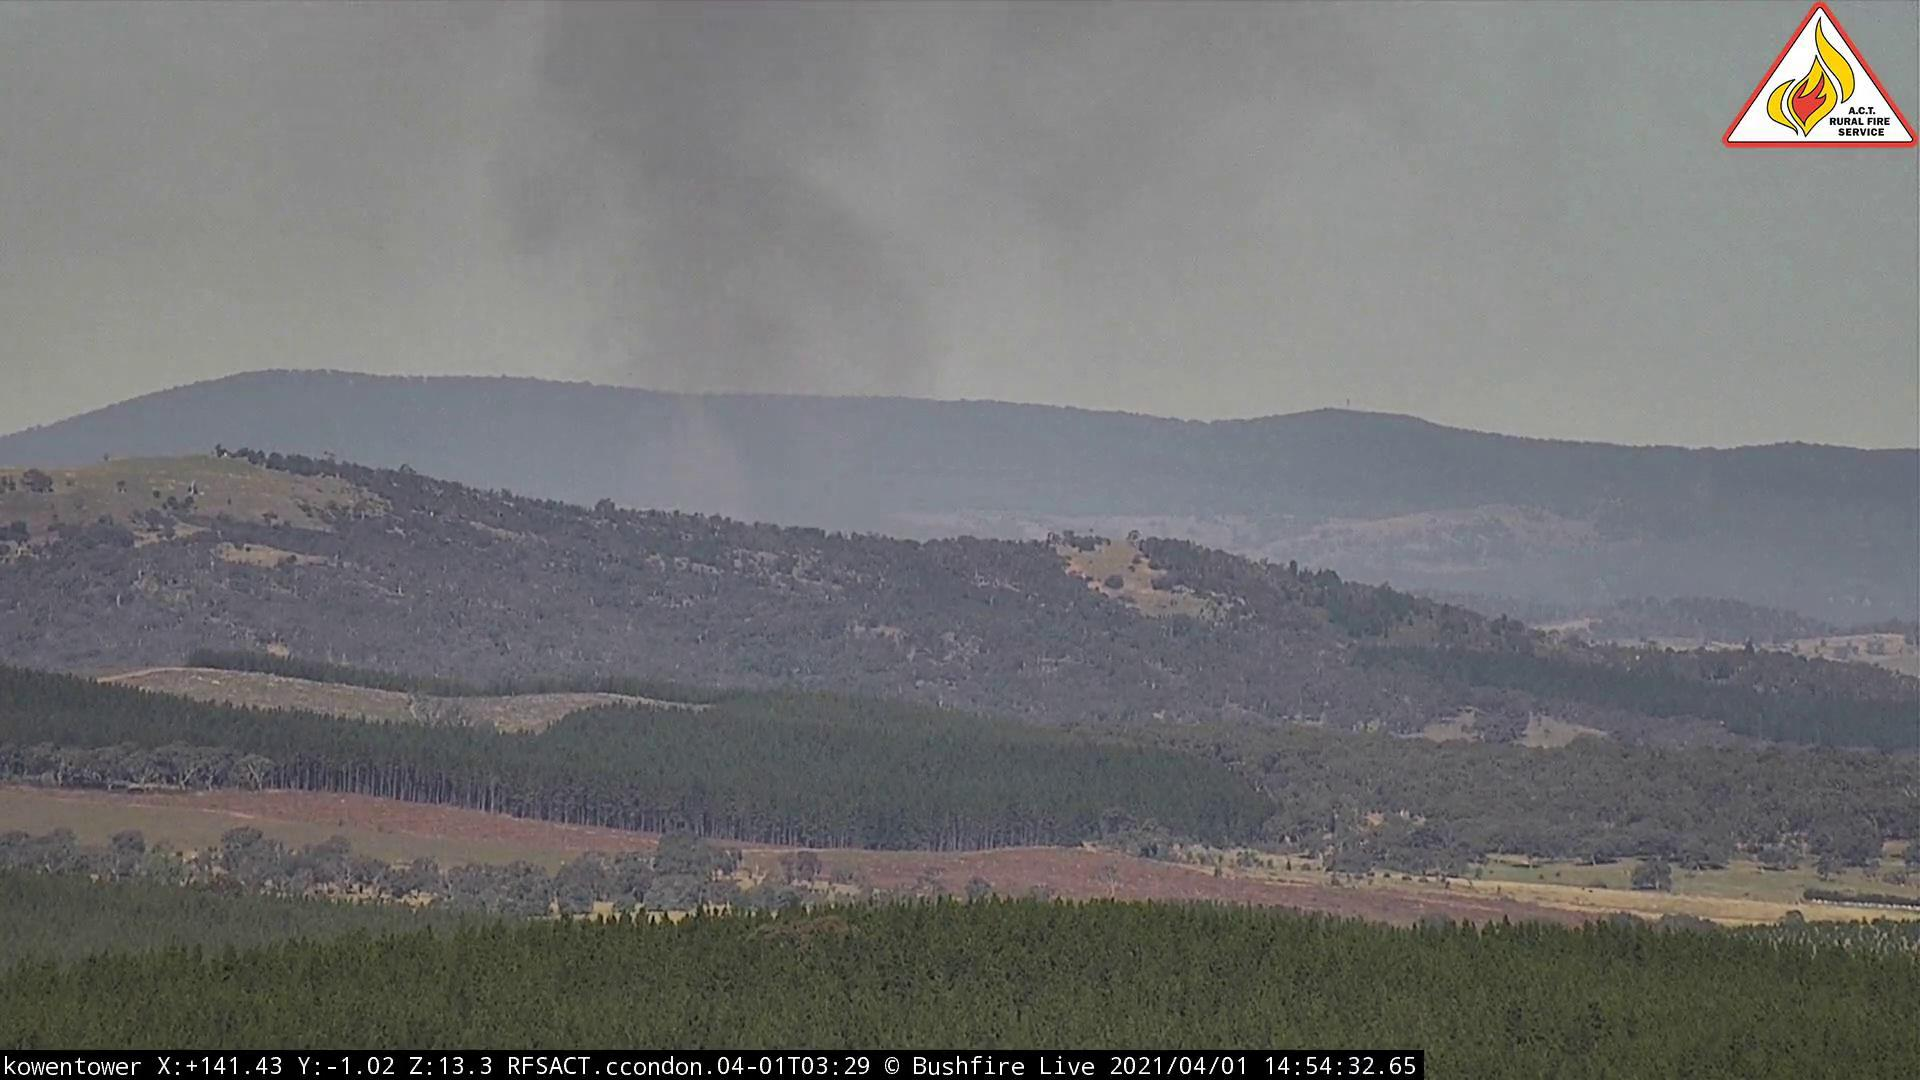Smoke: (429, 3, 1513, 556)
